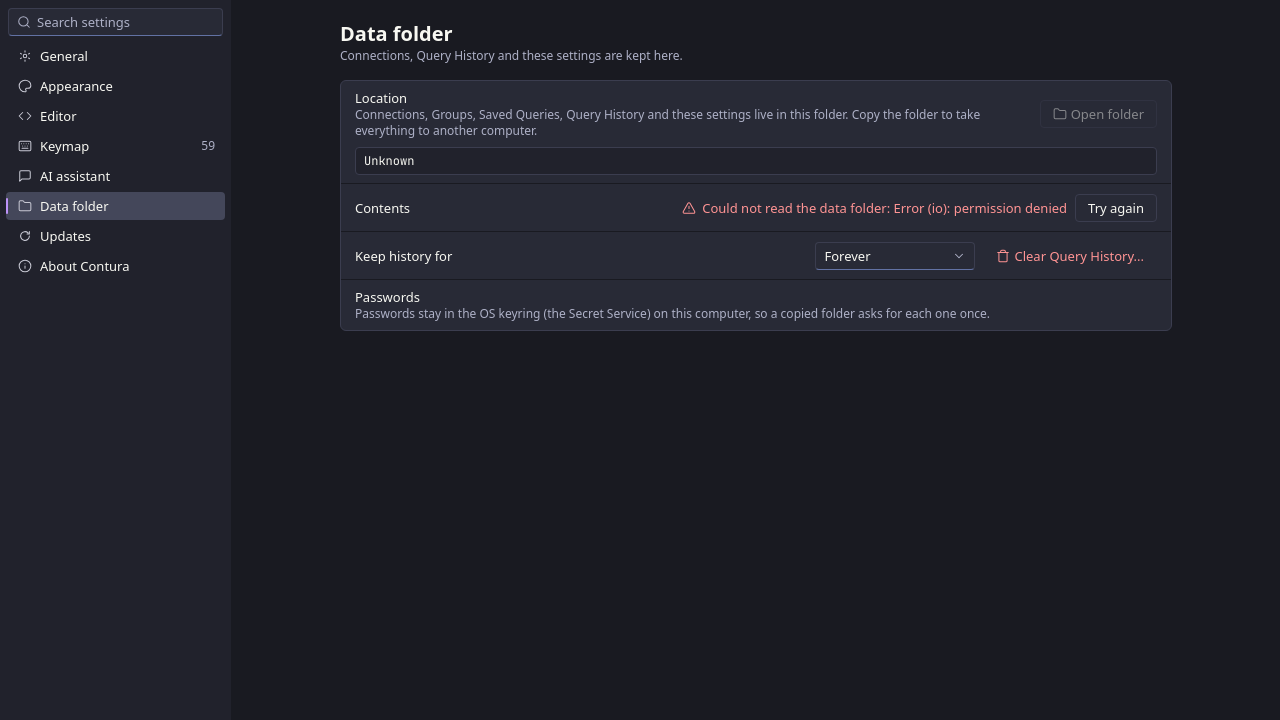
Test: the_data_folder_contents_load_fail_and_try_again
The image size is (1280, 720).
Expected: the text "Counting..." is shown, left=702, top=198, right=1067, bottom=216
Expected: the text "Could not read the data folder: Error (io): permission denied" is shown, left=682, top=198, right=1067, bottom=216
Click the button "Try again" at (1116, 208), box left=1075, top=194, right=1157, bottom=222
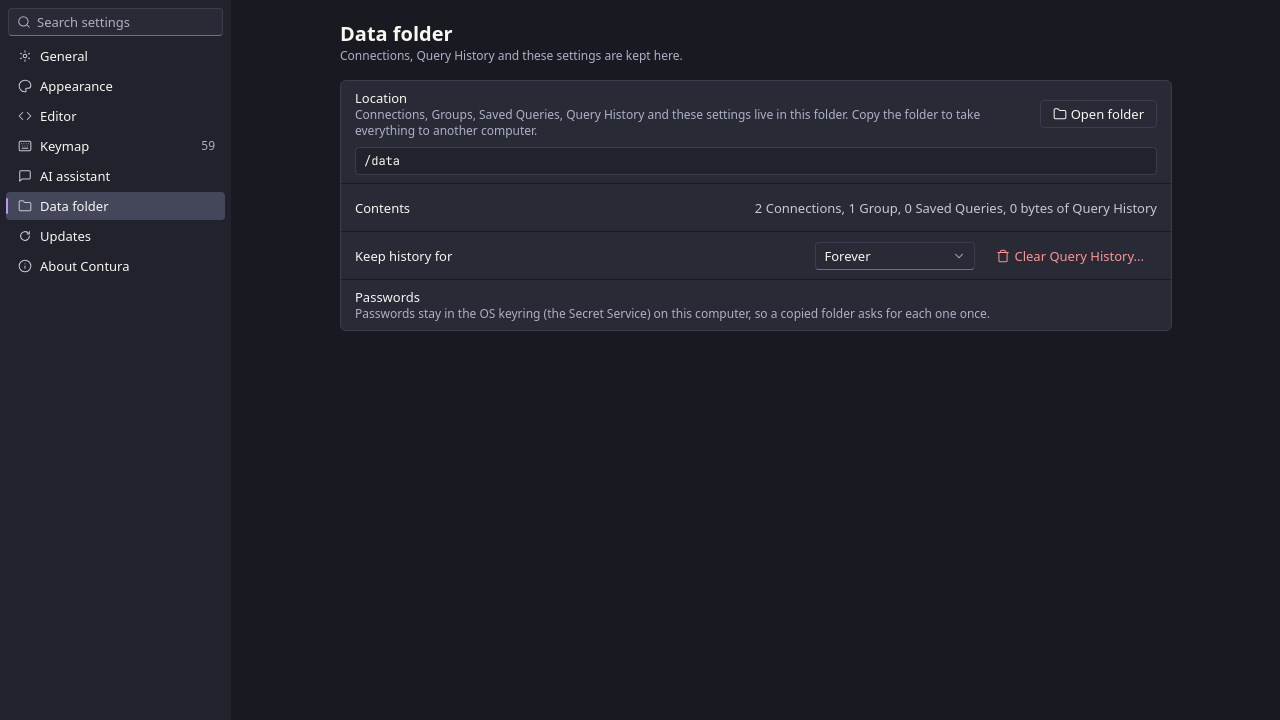
Now the text "2 Connections, 1 Group, 0 Saved Queries" is shown, box left=755, top=198, right=1157, bottom=216
Now the button "Try again" is gone
